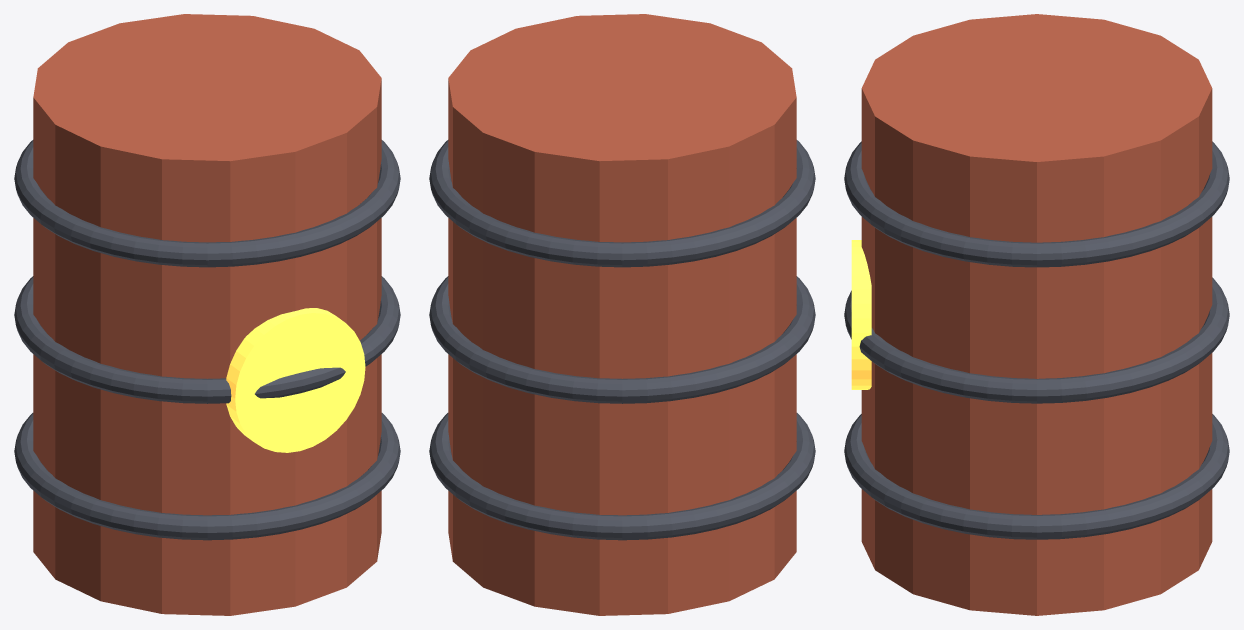
The model's file is prop_barrel.glb.
The picture shows the model from 3 angles, left to right: view 1: azimuth 30°, elevation 25°; view 2: azimuth 150°, elevation 25°; view 3: azimuth 270°, elevation 25°; orthographic projection.
Visible parts, largest first — view 1: DrumBody, PlasmaWindow, Rib_0.8, Rib_0.2, Rib_0.5; view 2: DrumBody, Rib_0.5, Rib_0.8, Rib_0.2; view 3: DrumBody, Rib_0.2, Rib_0.8, Rib_0.5, PlasmaWindow.
Part boxes in pixels (x1=…): DrumBody: x1=33, y1=14, x2=381, y2=615; PlasmaWindow: x1=226, y1=308, x2=365, y2=452; Rib_0.8: x1=14, y1=140, x2=400, y2=267; Rib_0.2: x1=14, y1=413, x2=400, y2=540; Rib_0.5: x1=14, y1=276, x2=400, y2=403; DrumBody: x1=448, y1=14, x2=796, y2=615; Rib_0.5: x1=429, y1=276, x2=815, y2=403; Rib_0.8: x1=429, y1=140, x2=815, y2=267; Rib_0.2: x1=429, y1=413, x2=815, y2=540; DrumBody: x1=861, y1=14, x2=1212, y2=615; Rib_0.2: x1=844, y1=414, x2=1229, y2=539; Rib_0.8: x1=844, y1=141, x2=1229, y2=267; Rib_0.5: x1=844, y1=277, x2=1229, y2=403; PlasmaWindow: x1=851, y1=240, x2=871, y2=389.
Size of the model in its own units: 0.77 by 1 by 0.77.
